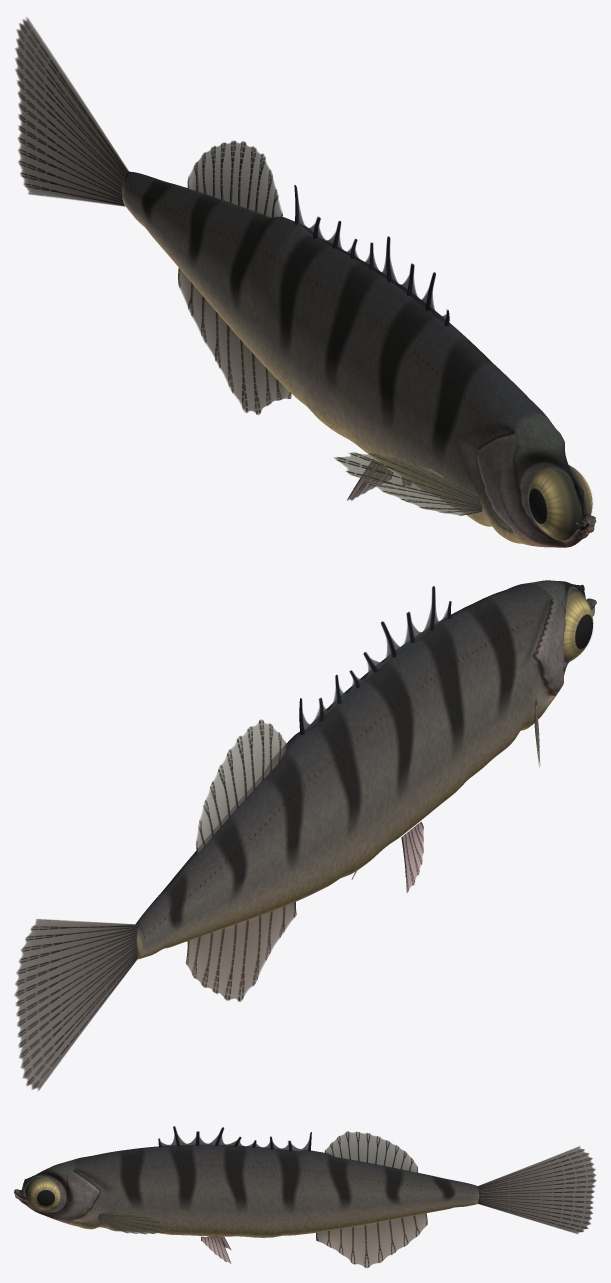
Rendered from cierniczek.glb.
The picture shows the model from 3 angles, top to bottom: view 1: azimuth 30°, elevation 25°; view 2: azimuth 150°, elevation 25°; view 3: azimuth 270°, elevation 25°; orthographic projection. The views are drawn at different scales.
Visible parts, largest first — view 1: Body, FinCaudal, FinAnal, FinDorsal2, FinPectoral, EyeLeft, FinDorsal1, FinPelvic; view 2: Body, FinCaudal, FinAnal, FinDorsal2, FinDorsal1, EyeLeft, FinPelvic; view 3: Body, FinCaudal, FinAnal, FinDorsal2, FinPectoral, EyeRight, FinDorsal1, FinPelvic.
Boxes of the visible parts, x1,y1,x2,y2 form: Body: [122, 171, 596, 547]; FinCaudal: [15, 17, 128, 206]; FinAnal: [178, 268, 291, 414]; FinDorsal2: [187, 140, 282, 217]; FinPectoral: [333, 452, 482, 515]; EyeLeft: [528, 468, 581, 540]; FinDorsal1: [294, 185, 449, 326]; FinPelvic: [347, 459, 411, 500]; Body: [135, 580, 596, 959]; FinCaudal: [14, 919, 137, 1090]; FinAnal: [185, 902, 296, 1001]; FinDorsal2: [196, 719, 287, 855]; FinDorsal1: [299, 586, 451, 734]; EyeLeft: [563, 588, 593, 662]; FinPelvic: [351, 822, 423, 892]; Body: [14, 1145, 478, 1237]; FinCaudal: [478, 1146, 596, 1233]; FinAnal: [316, 1213, 427, 1267]; FinDorsal2: [324, 1131, 417, 1172]; FinPectoral: [98, 1211, 170, 1234]; EyeRight: [25, 1176, 60, 1211]; FinDorsal1: [158, 1126, 311, 1151]; FinPelvic: [201, 1236, 231, 1263].
Bounding box in the file's own units: 0.2041 × 0.2769 × 1.
9 materials, 8 textured.
